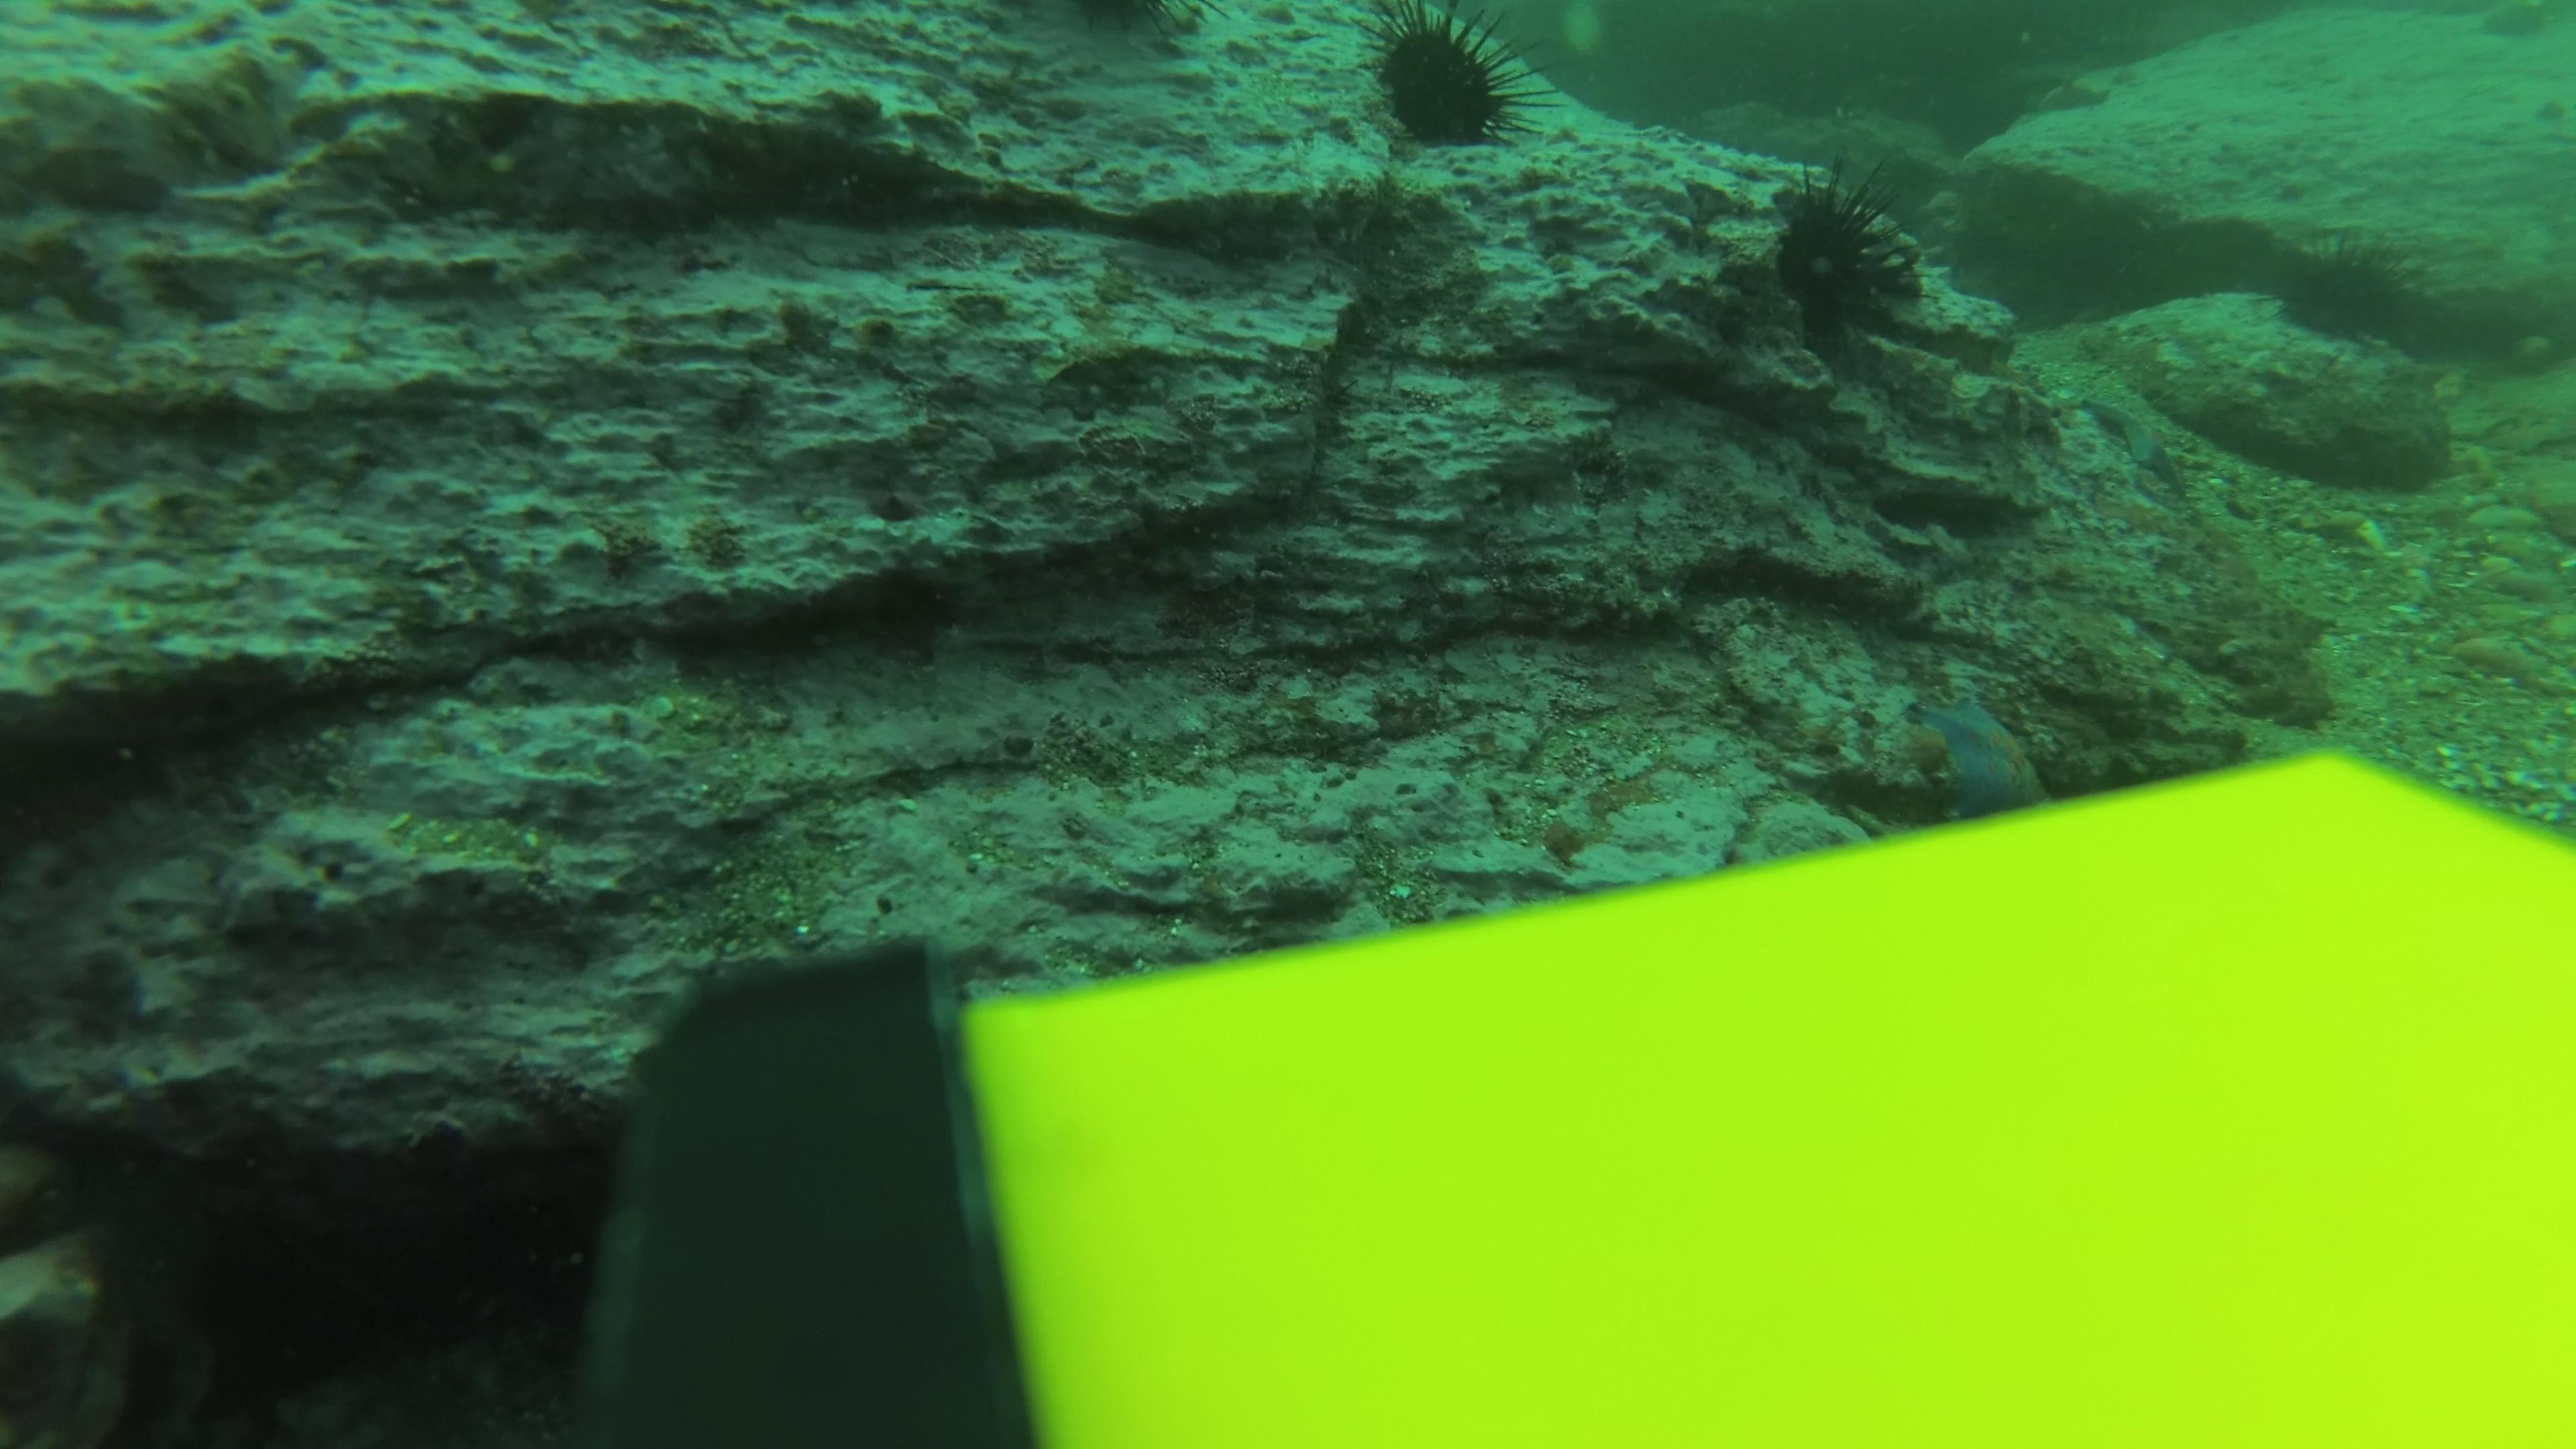echinus: (1755, 165, 1936, 363), (1352, 2, 1545, 159), (2268, 235, 2420, 349)
starfish: (1902, 679, 2052, 817), (2074, 377, 2197, 492), (2028, 64, 2123, 119)
